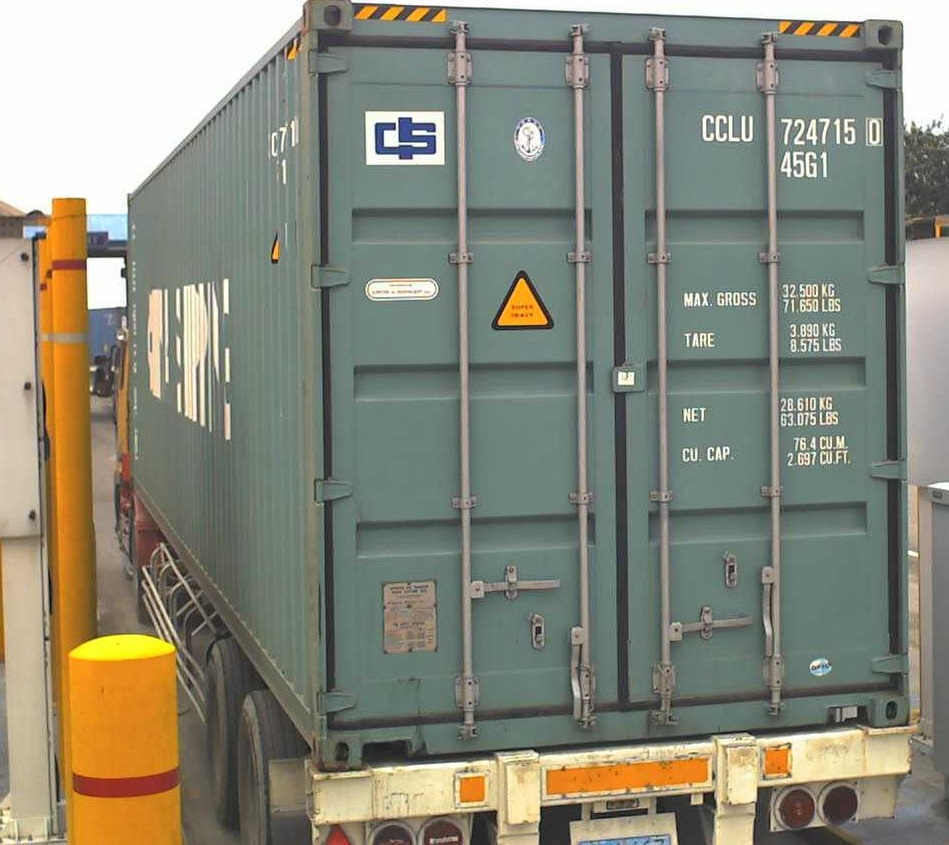container_door: (307, 2, 917, 793)
